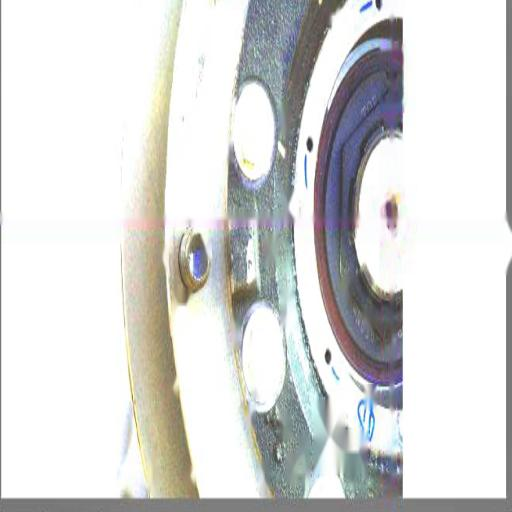center: (381, 192, 398, 229)
notch: (384, 67, 400, 94)
